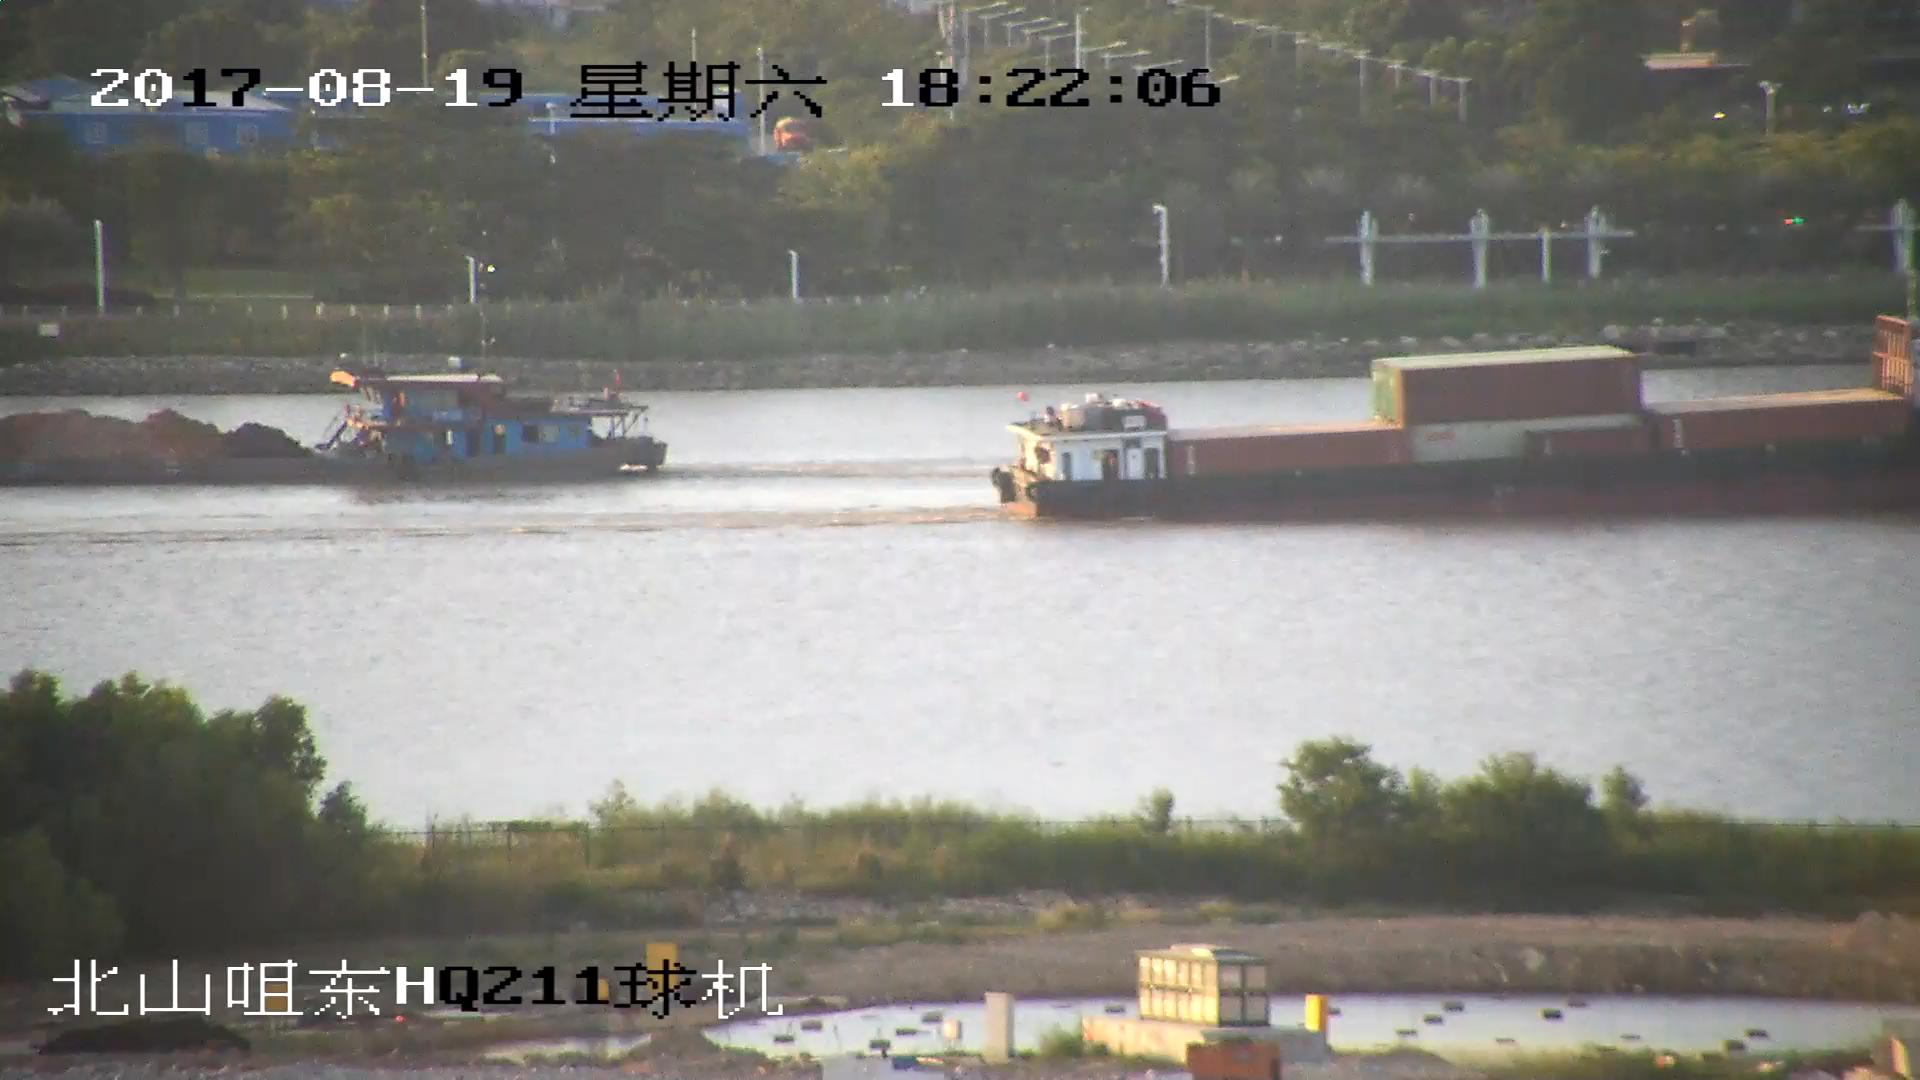container ship: (997, 318, 1920, 525)
ore carrier: (1, 346, 673, 488)
